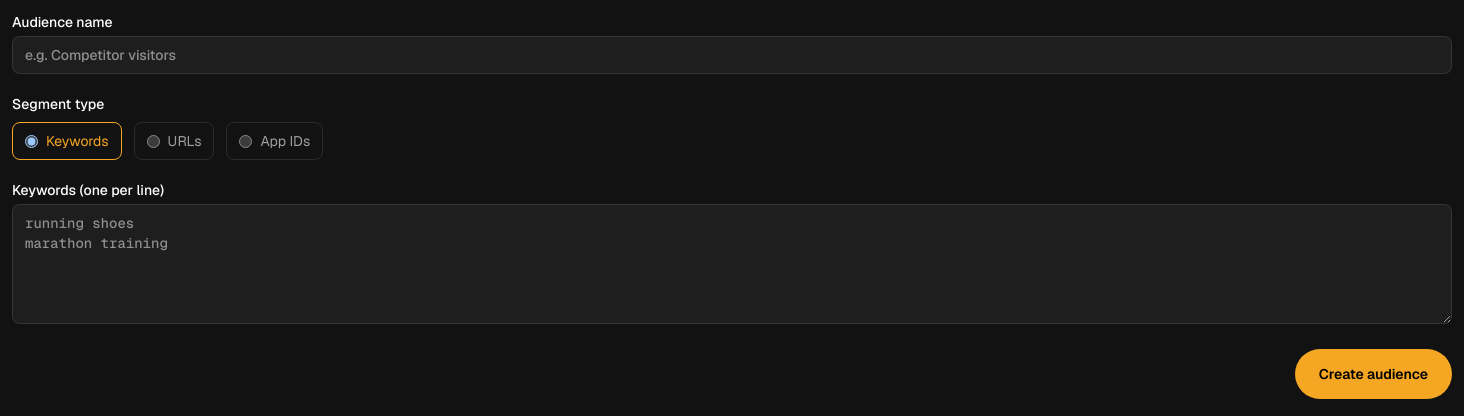
Test: CustomSegmentBuilder › switches segment type to URL when radio is clicked
Click the radio button labelled "URLs" at (153, 141), box 146,134 -> 160,148
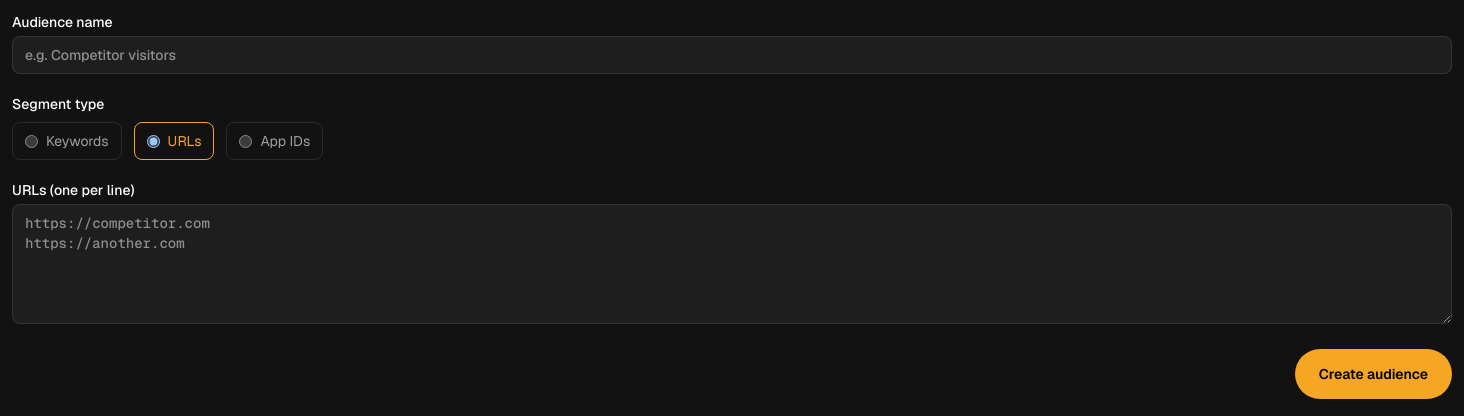
Result: the radio button labelled "URLs" is checked at 146,134 -> 160,148
Result: the radio button labelled "Keywords" is not checked at 25,134 -> 38,148
